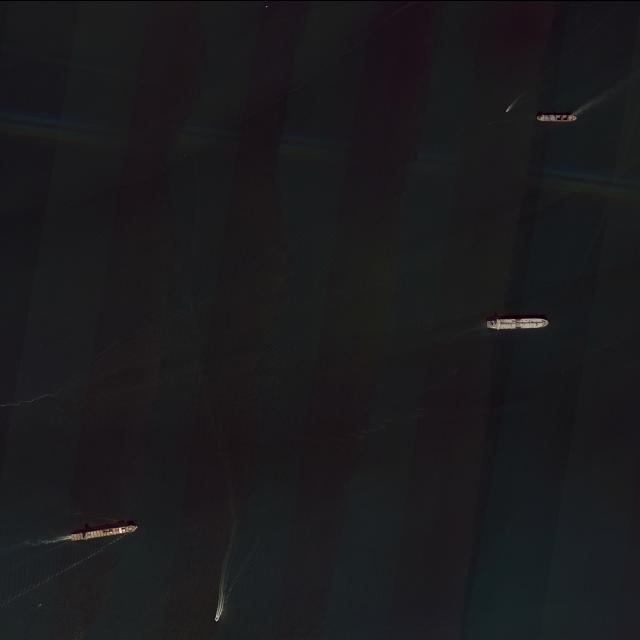ship: (70, 524, 138, 542), (485, 316, 549, 330), (536, 113, 577, 121), (215, 617, 218, 621), (506, 108, 508, 112), (266, 5, 268, 7), (40, 602, 41, 604)
